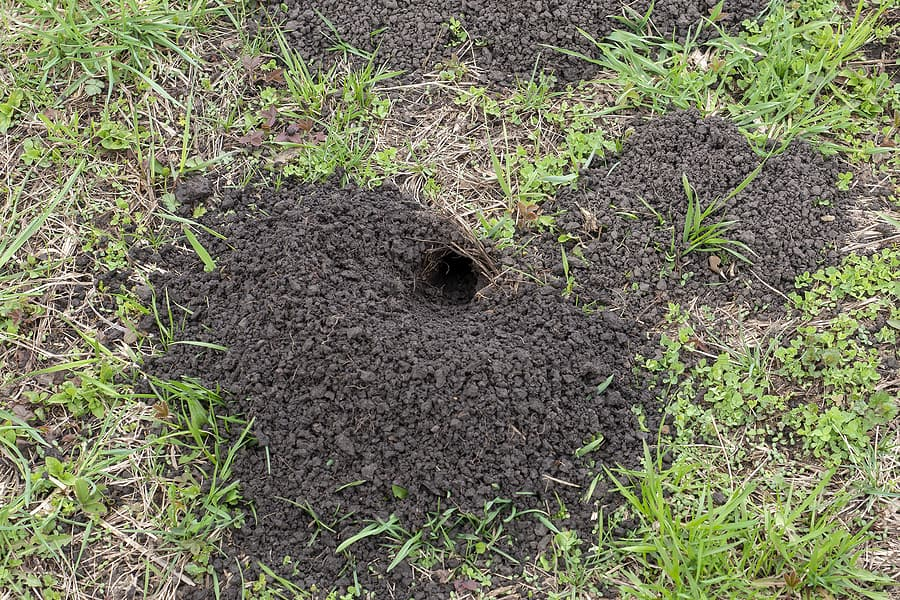dirt: (176, 188, 652, 573), (623, 116, 845, 326), (281, 6, 601, 76)
grass: (663, 356, 893, 592)
